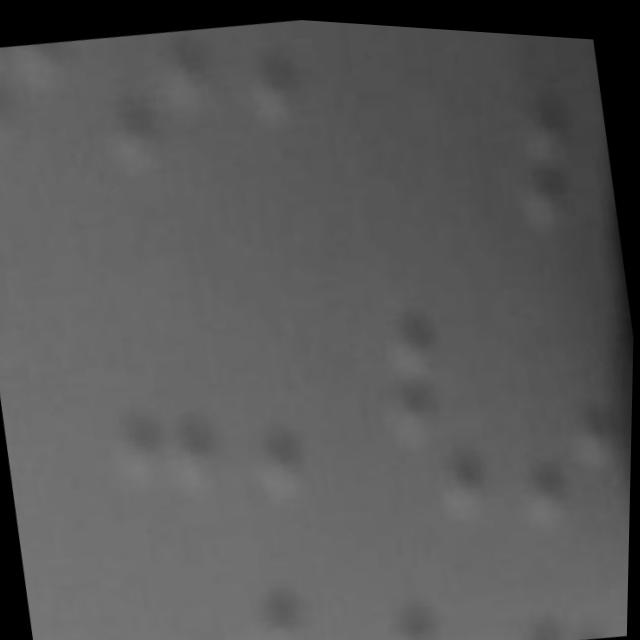braiile: (90, 275, 253, 526), (235, 283, 385, 516), (502, 301, 635, 556), (372, 287, 513, 521), (243, 13, 394, 201), (90, 16, 248, 188), (0, 33, 101, 176), (360, 565, 496, 640), (227, 574, 358, 640), (104, 595, 221, 640)
